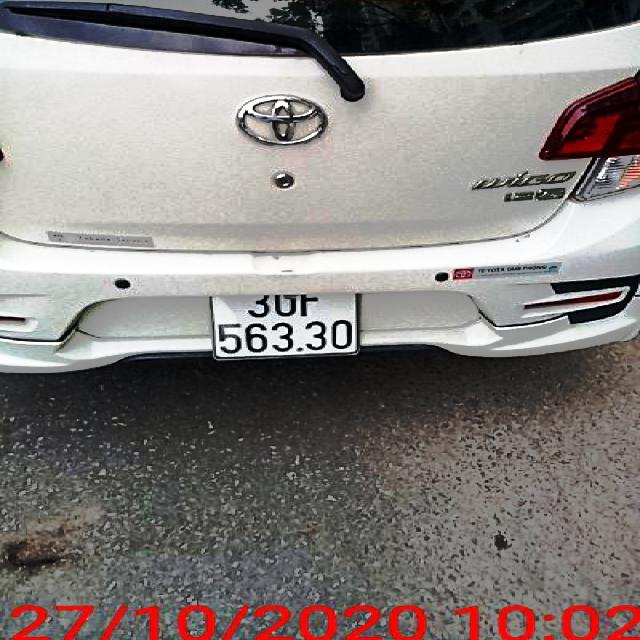license_plate: (206, 292, 366, 359)
